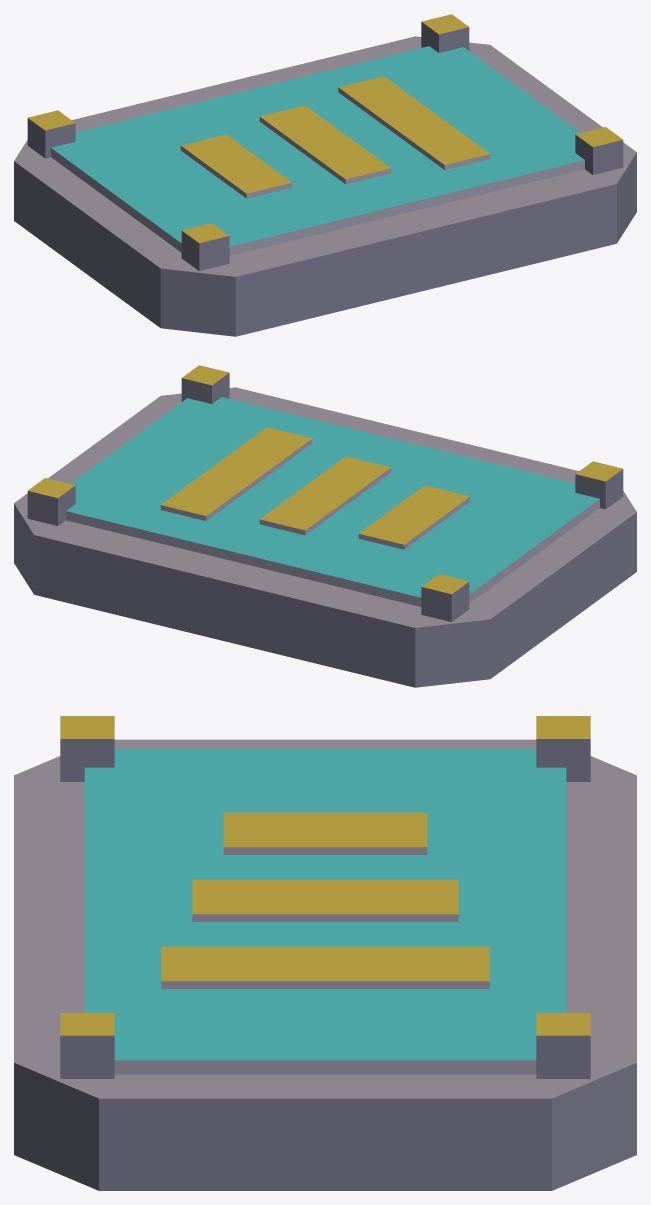
The model's file is star_garden_ride_platform.obj.
3 views of the same model, one above another, from view 1: azimuth 30°, elevation 25°; view 2: azimuth 150°, elevation 25°; view 3: azimuth 270°, elevation 25° (orthographic). The views are drawn at different scales.
Visible parts, largest first — view 1: star_garden_ride_platform; view 2: star_garden_ride_platform; view 3: star_garden_ride_platform.
Part boxes in pixels (left/top/right/bottom): star_garden_ride_platform: left=14, top=14, right=636, bottom=336; star_garden_ride_platform: left=14, top=365, right=636, bottom=687; star_garden_ride_platform: left=14, top=716, right=636, bottom=1190.
Size of the model in its own units: 15 by 2.64 by 11.
